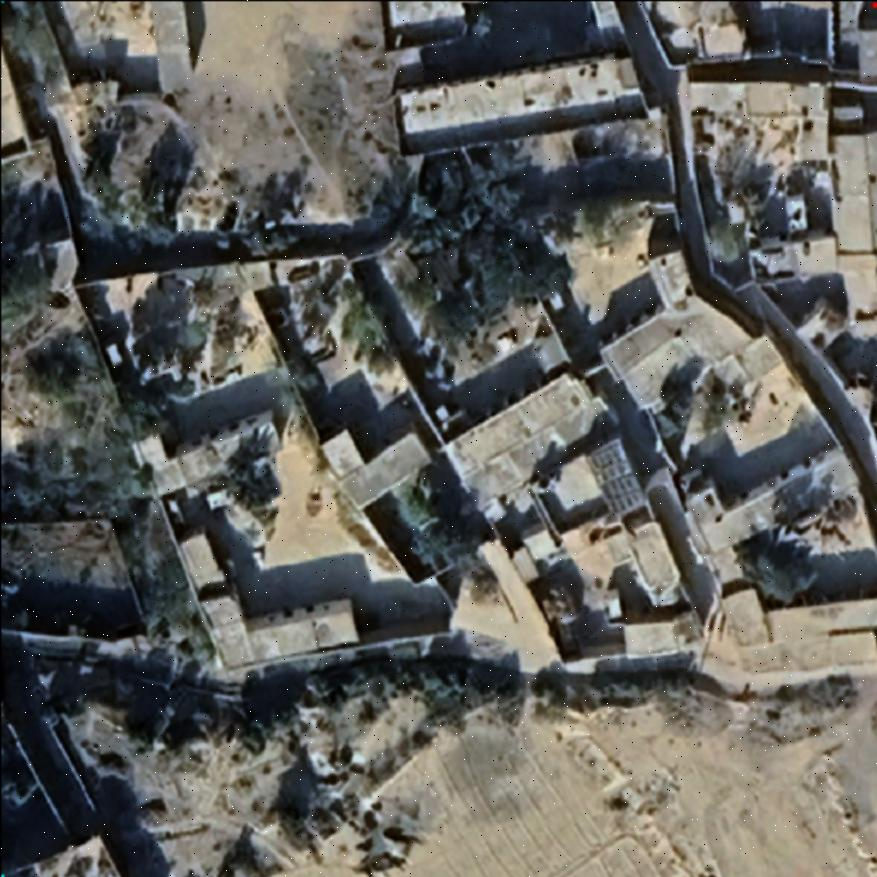Solarpanel: (587, 434, 646, 516)
